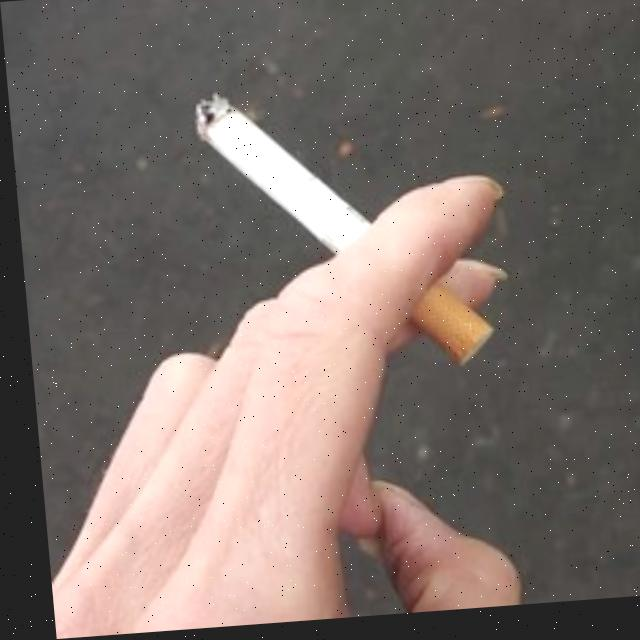cigarette: (190, 79, 491, 387)
